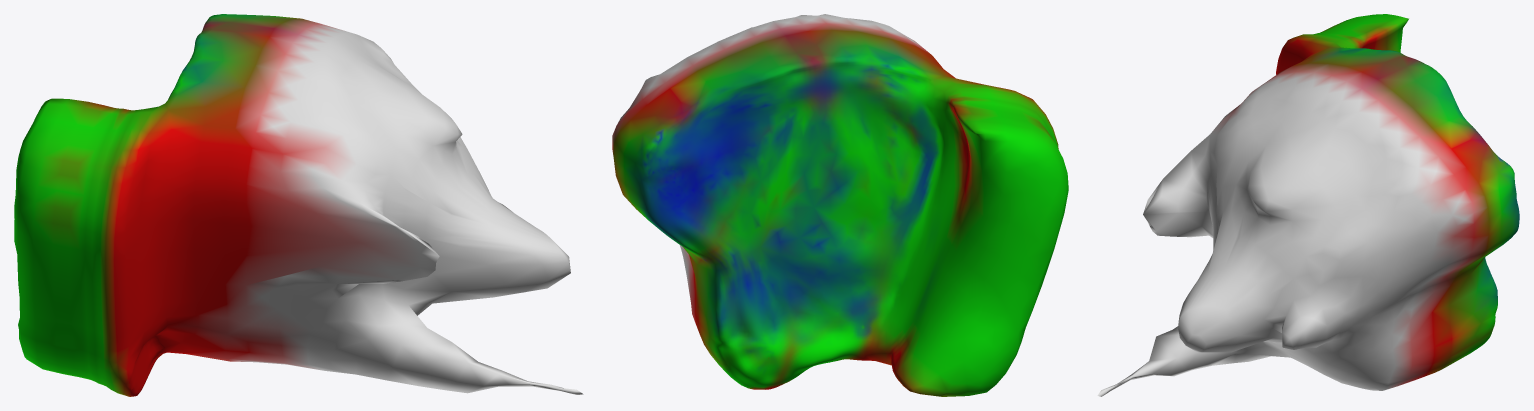
Rendered from HG_Q2_OuterRing_Terrain_002.fbx.
3 views of the same model, side by side, from view 1: azimuth 30°, elevation 25°; view 2: azimuth 150°, elevation 25°; view 3: azimuth 270°, elevation 25° (orthographic). The views are drawn at different scales.
Parts seen in each view (by area): view 1: HG_Q2_OuterRing_Terrain_002; view 2: HG_Q2_OuterRing_Terrain_002; view 3: HG_Q2_OuterRing_Terrain_002.
Boxes of the visible parts, bbox=[...] form: HG_Q2_OuterRing_Terrain_002: bbox=[14, 14, 583, 396]; HG_Q2_OuterRing_Terrain_002: bbox=[612, 14, 1068, 396]; HG_Q2_OuterRing_Terrain_002: bbox=[1097, 14, 1519, 396].
Size of the model in its own units: 256 by 172 by 229.
